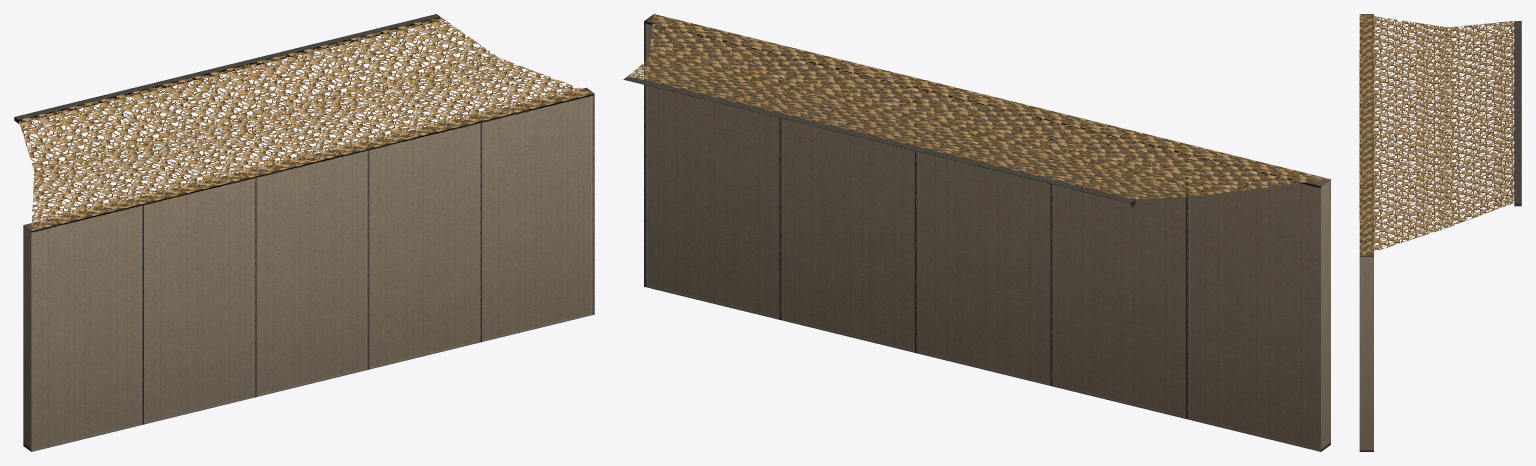
The model's file is M3_Hanger_Wall_Cover.glb.
The picture shows the model from 3 angles, left to right: view 1: azimuth 30°, elevation 25°; view 2: azimuth 150°, elevation 25°; view 3: azimuth 270°, elevation 25°; orthographic projection. The views are drawn at different scales.
Parts seen in each view (by area): view 1: M3_HANGER_WALL_COVER; view 2: M3_HANGER_WALL_COVER; view 3: M3_HANGER_WALL_COVER.
Part boxes in pixels (x1,y1,x2,y2): M3_HANGER_WALL_COVER: (14, 14, 594, 451); M3_HANGER_WALL_COVER: (623, 14, 1330, 451); M3_HANGER_WALL_COVER: (1359, 14, 1521, 451).
Bounding box in the file's own units: 8 × 3.39 × 2.26.
3 materials, 3 textured.
